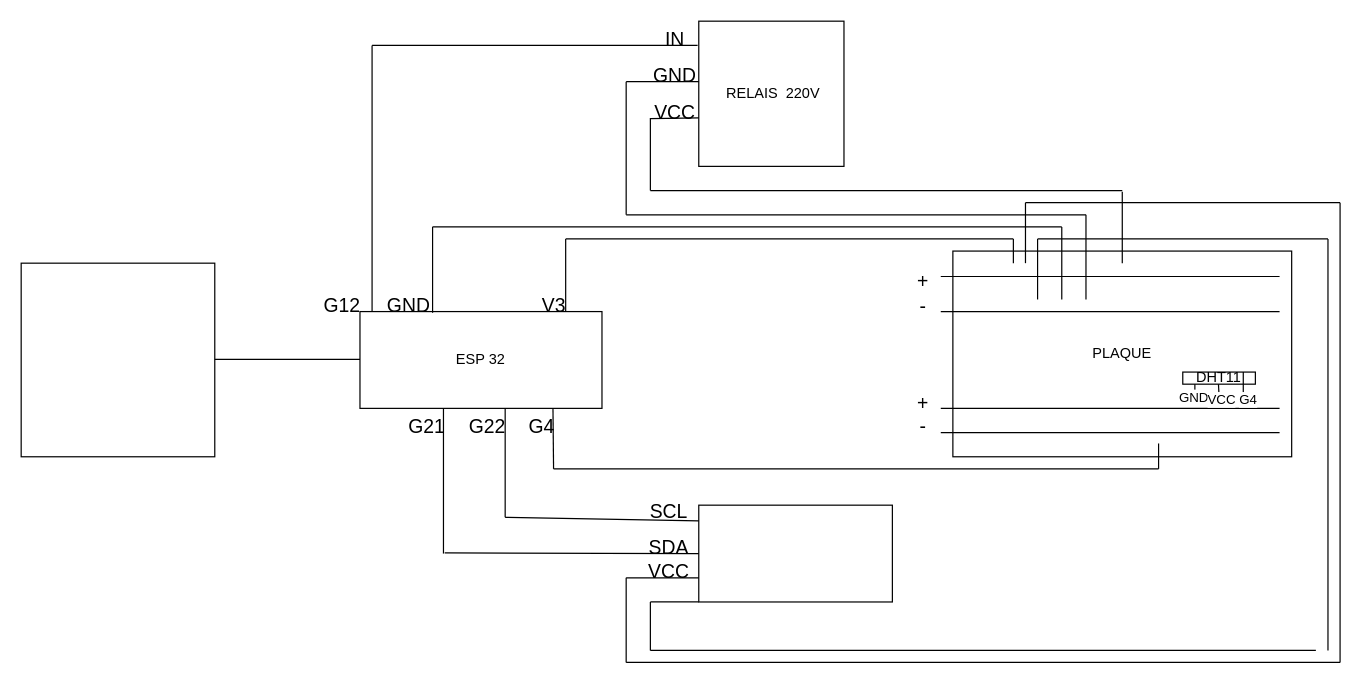
The diagram is 1362 pixels wide and 685 high, and some of its shapes have lost their labels. The shapes that lost their labels are listed below. From the top down, each one's centre as x and y in pixels, then its label:
At point (117, 359): "ALIMENTATION 5V".
At point (795, 553): "ECRAN".
